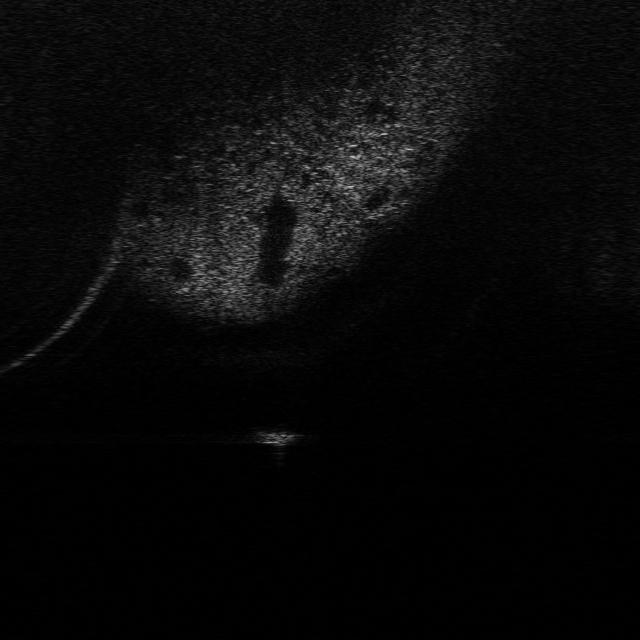cube: (248, 419, 306, 448)
